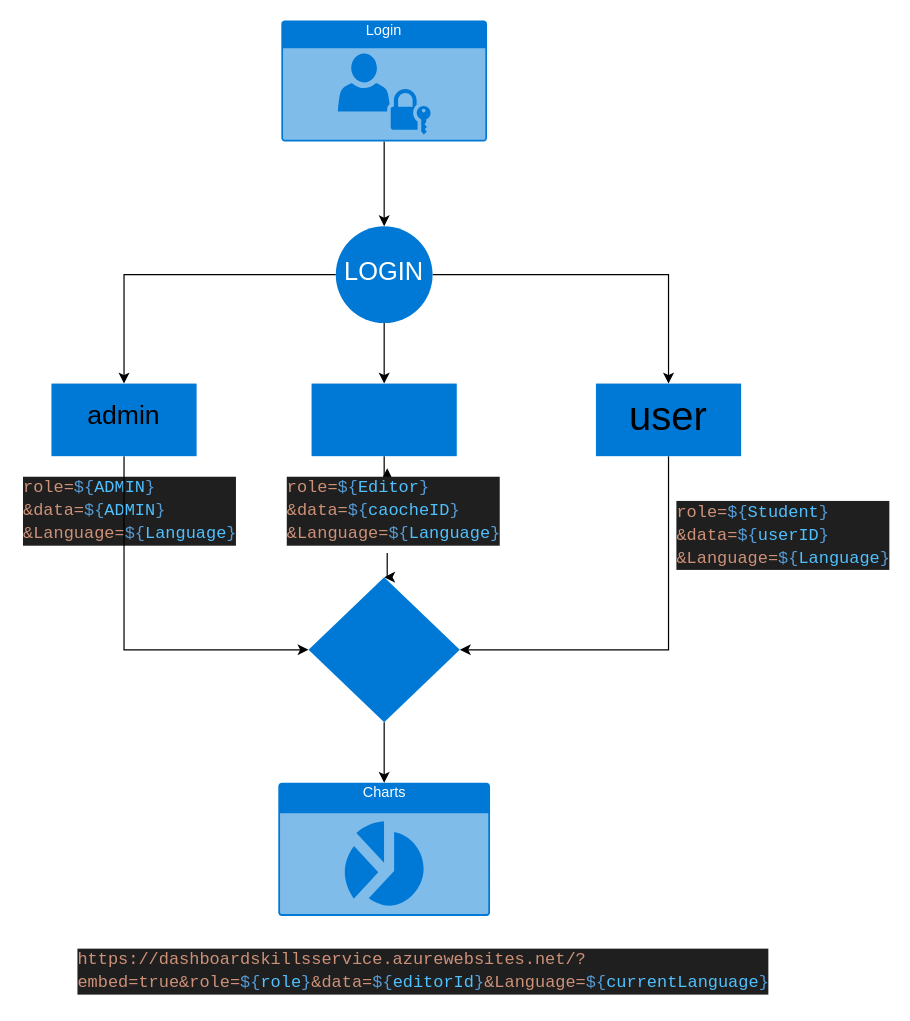
This 910x1021 diagram has some shape labels left out. Here are the shapes that lost their labels. From the top down, the centre of each, then its label:
At pixel 383 419: "coach".
At pixel 383 649: "Dashbord".
